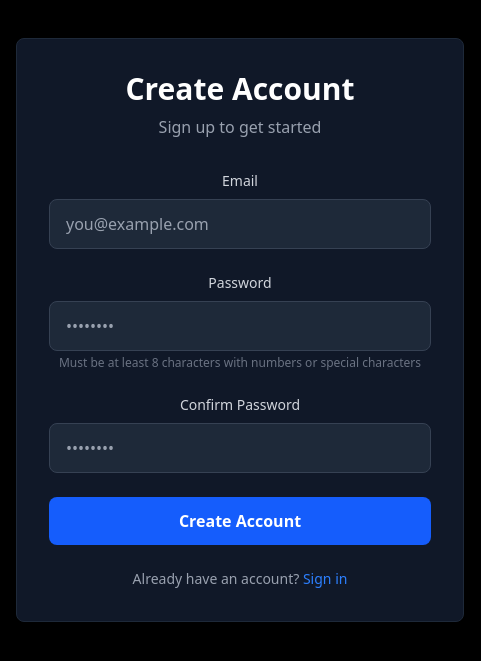
Test: Register Component › Password Validation › shows error for password with only letters on form submission
Type "test@example.com" into the field labelled "Email".
click(240, 224); type("test@example.com")  # box left=49, top=199, right=431, bottom=249
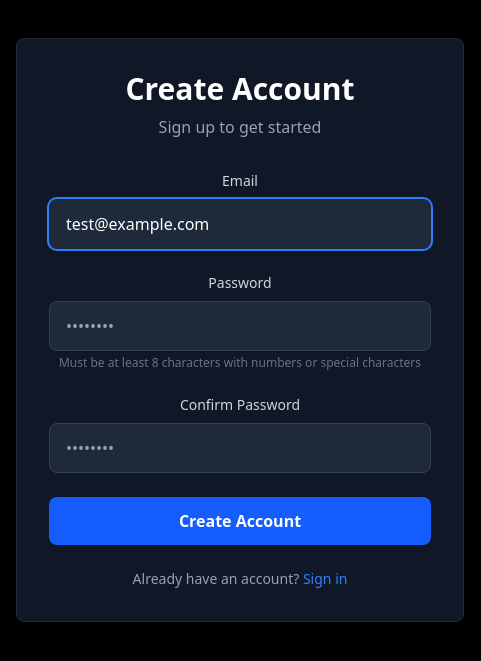
Type "passwordonlyletters" into the password field labelled "Password".
click(240, 326); type("passwordonlyletters")  # box left=49, top=301, right=431, bottom=351
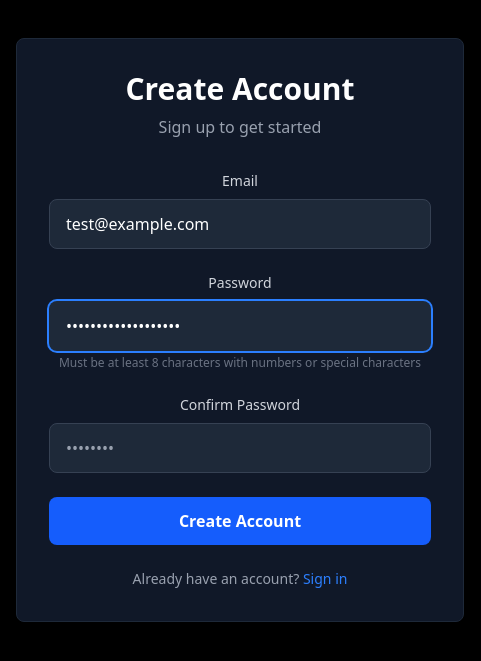
Type "passwordonlyletters" into the password field labelled "Confirm Password".
click(240, 448); type("passwordonlyletters")  # box left=49, top=423, right=431, bottom=473
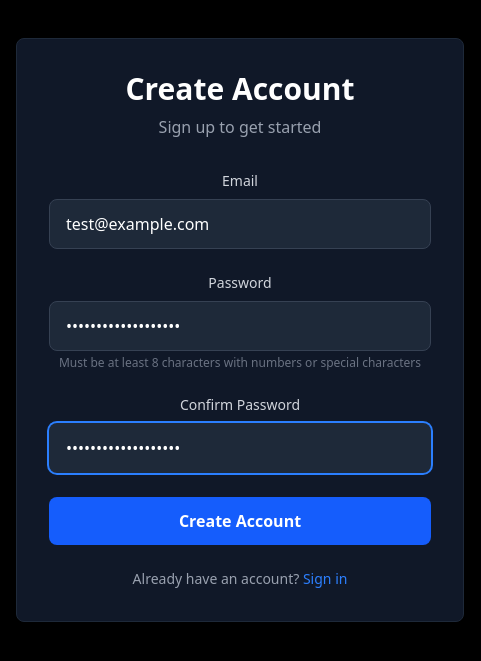
Click the button "Create Account".
click(240, 521)  # box left=49, top=497, right=431, bottom=545
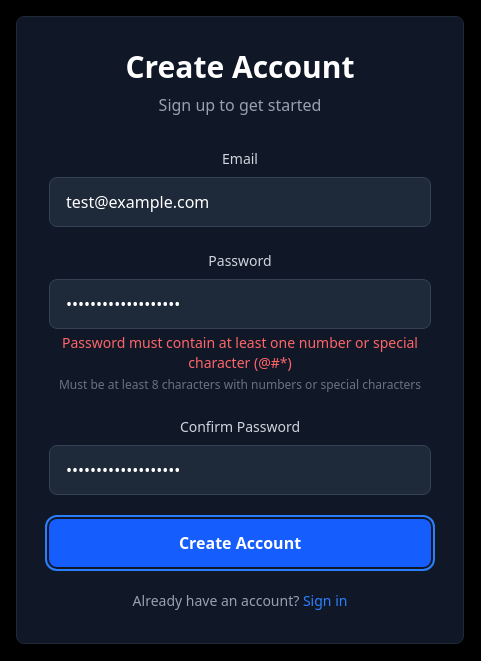
Expected: the text "Password must contain at least one number or special character" is shown, left=62, top=333, right=418, bottom=372
